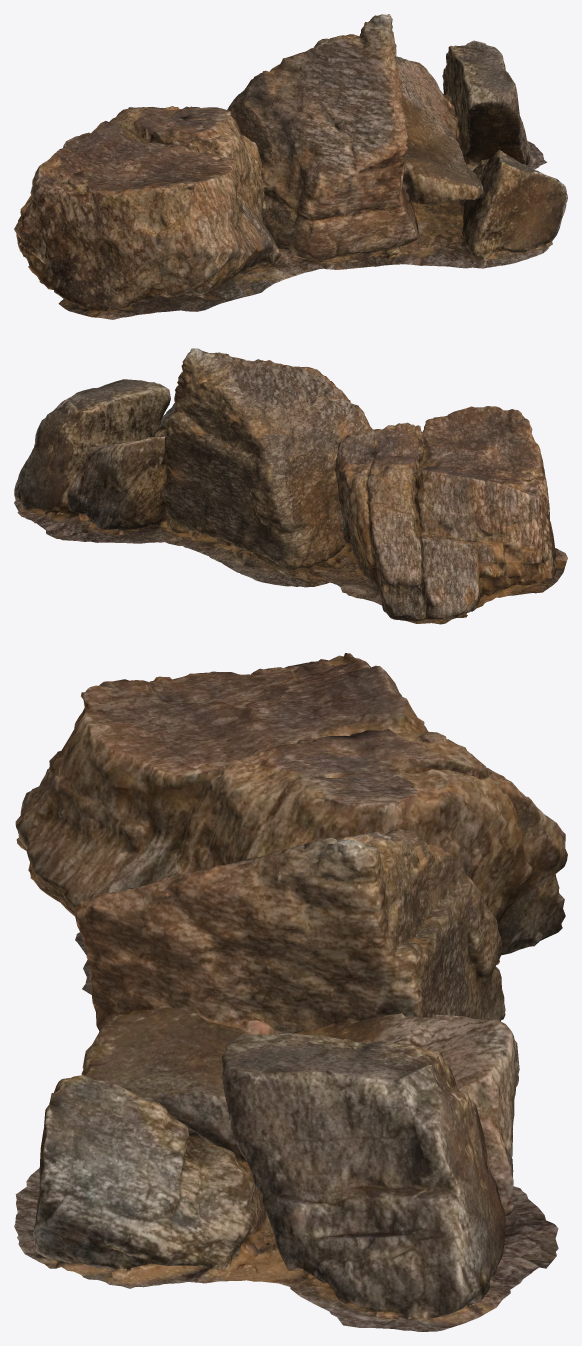
File: rock_pile_02.glb
The picture shows the model from 3 angles, top to bottom: view 1: azimuth 30°, elevation 25°; view 2: azimuth 150°, elevation 25°; view 3: azimuth 270°, elevation 25°; orthographic projection. The views are drawn at different scales.
Parts seen in each view (by area): view 1: boulder_02; view 2: boulder_02; view 3: boulder_02.
Part boxes in pixels (x1=…): boulder_02: x1=14, y1=14, x2=567, y2=319; boulder_02: x1=14, y1=348, x2=567, y2=624; boulder_02: x1=14, y1=653, x2=567, y2=1331.
Bounding box in the file's own units: 2.53 × 0.8826 × 1.23.
Materials: 1 (1 with a texture image).
